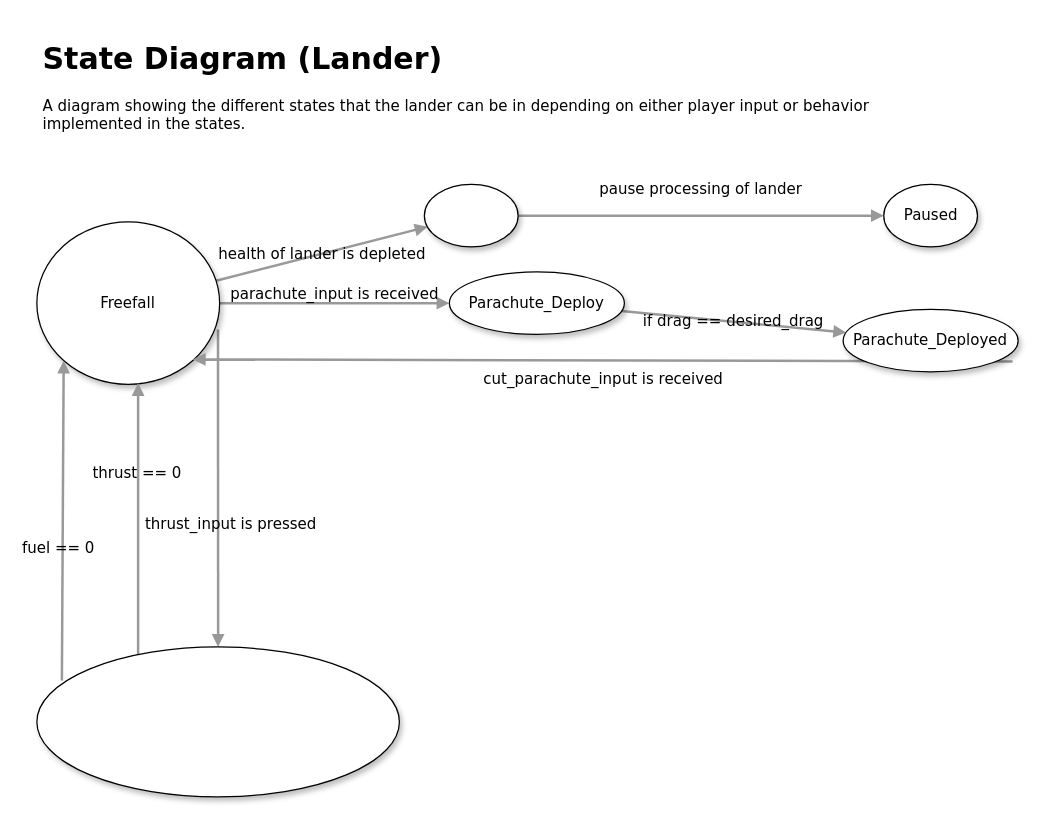
This 1048x828 diagram has some shape labels left out. The centre of each missing label's shape, as x and y in pixels:
"Destroyed" belongs at pixel 472 217.
"Thrust" belongs at pixel 219 723.
